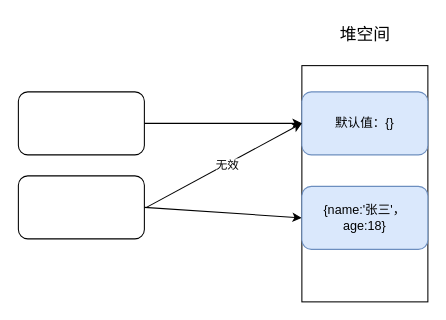
The diagram is 446 pixels wide and 320 high, and some of its shapes have lost their labels. Here are the shapes that lost their labels. From the top down, the centre of each, then its label:
At (80,123): "module.exports 值：0x10000".
At (80,207): "exports 值： 0x20000".
